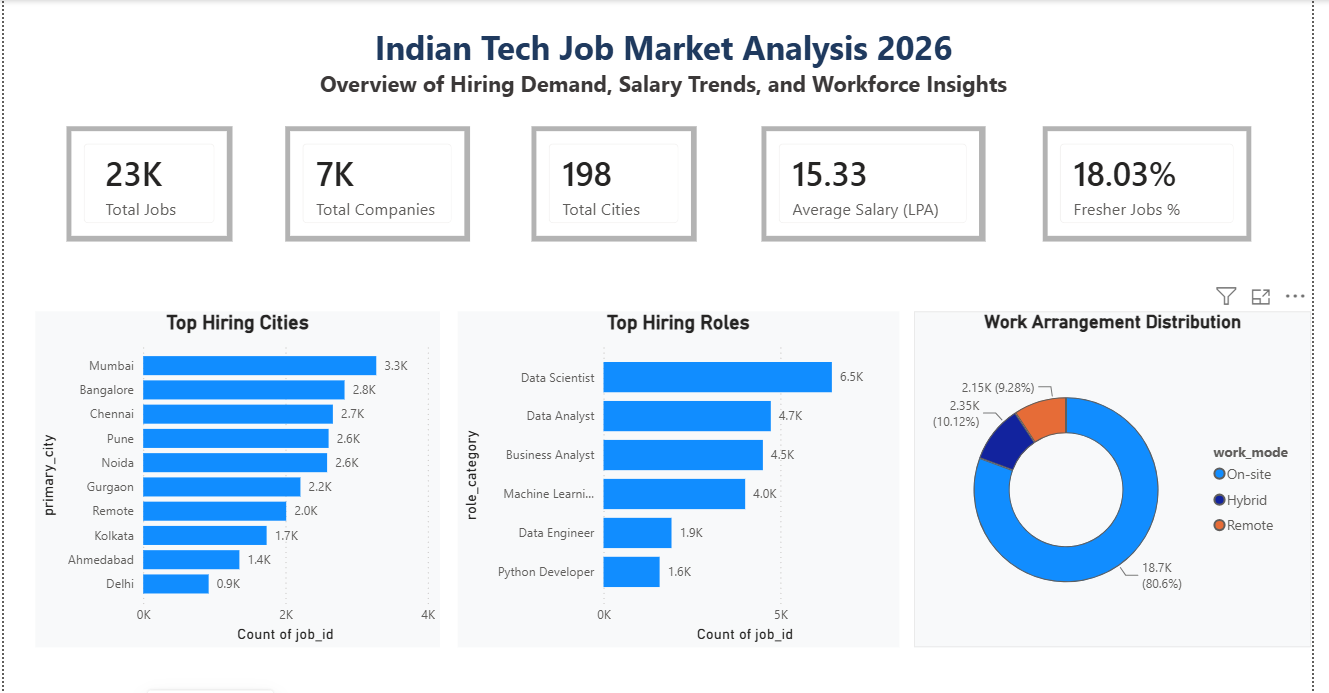

The page's visual inventory and layout, read from the dashboard file:
{"tool":"powerbi","page":{"name":"Hiring Overview","canvas":[1280,720],"ordinal":0},"visuals":[{"type":"cardVisual","fields":{"Data":["indian_tech_jobs_2026.Total Jobs"]},"box":[61.1,123.5,162.6,112.5],"z":0},{"type":"cardVisual","fields":{"Data":["indian_tech_jobs_2026.Total Companies"]},"box":[275.1,123.5,181,112.5],"z":1000},{"type":"cardVisual","fields":{"Data":["indian_tech_jobs_2026.Total Cities"]},"box":[516,123.5,161.4,112.5],"z":2000},{"type":"cardVisual","fields":{"Data":["indian_tech_jobs_2026.Fresher Jobs %"]},"box":[1016.2,123.5,204.2,112.5],"z":3000},{"type":"cardVisual","fields":{"Data":["indian_tech_jobs_2026.Average Salary"]},"box":[741,123.5,218.9,112.5],"z":4000},{"type":"textbox","box":[61.1,19.6,1167.8,86.8],"z":4001},{"type":"clusteredBarChart","title":"Top Hiring Cities","fields":{"Category":["indian_tech_jobs_2026.primary_city"],"Y":["CountNonNull(indian_tech_jobs_2026.job_id)"]},"box":[30.6,304.5,396.2,328.9],"z":4002},{"type":"clusteredBarChart","title":"Top Hiring Roles","fields":{"Category":["indian_tech_jobs_2026.role_category"],"Y":["CountNonNull(indian_tech_jobs_2026.job_id)"]},"box":[443.9,304.5,431.7,328.9],"z":4003},{"type":"donutChart","title":"Work Arrangement Distribution","fields":{"Category":["indian_tech_jobs_2026.work_mode"],"Y":["CountNonNull(indian_tech_jobs_2026.job_id)"]},"box":[890.2,304.5,388.9,328.9],"z":4004}]}

Visuals, with their boxes on the page's 1280x720 design canvas (x1, y1, x2, y2). These are canvas units, not pixel positions in the 1329x693 screenshot, which may show the page scaled, cropped or inside an application window:
cardVisual - indian_tech_jobs_2026.Total Jobs: 61:124:224:236
cardVisual - indian_tech_jobs_2026.Total Companies: 275:124:456:236
cardVisual - indian_tech_jobs_2026.Total Cities: 516:124:677:236
cardVisual - indian_tech_jobs_2026.Fresher Jobs %: 1016:124:1220:236
cardVisual - indian_tech_jobs_2026.Average Salary: 741:124:960:236
textbox: 61:20:1229:106
"Top Hiring Cities" clusteredBarChart: 31:304:427:633
"Top Hiring Roles" clusteredBarChart: 444:304:876:633
"Work Arrangement Distribution" donutChart: 890:304:1279:633
